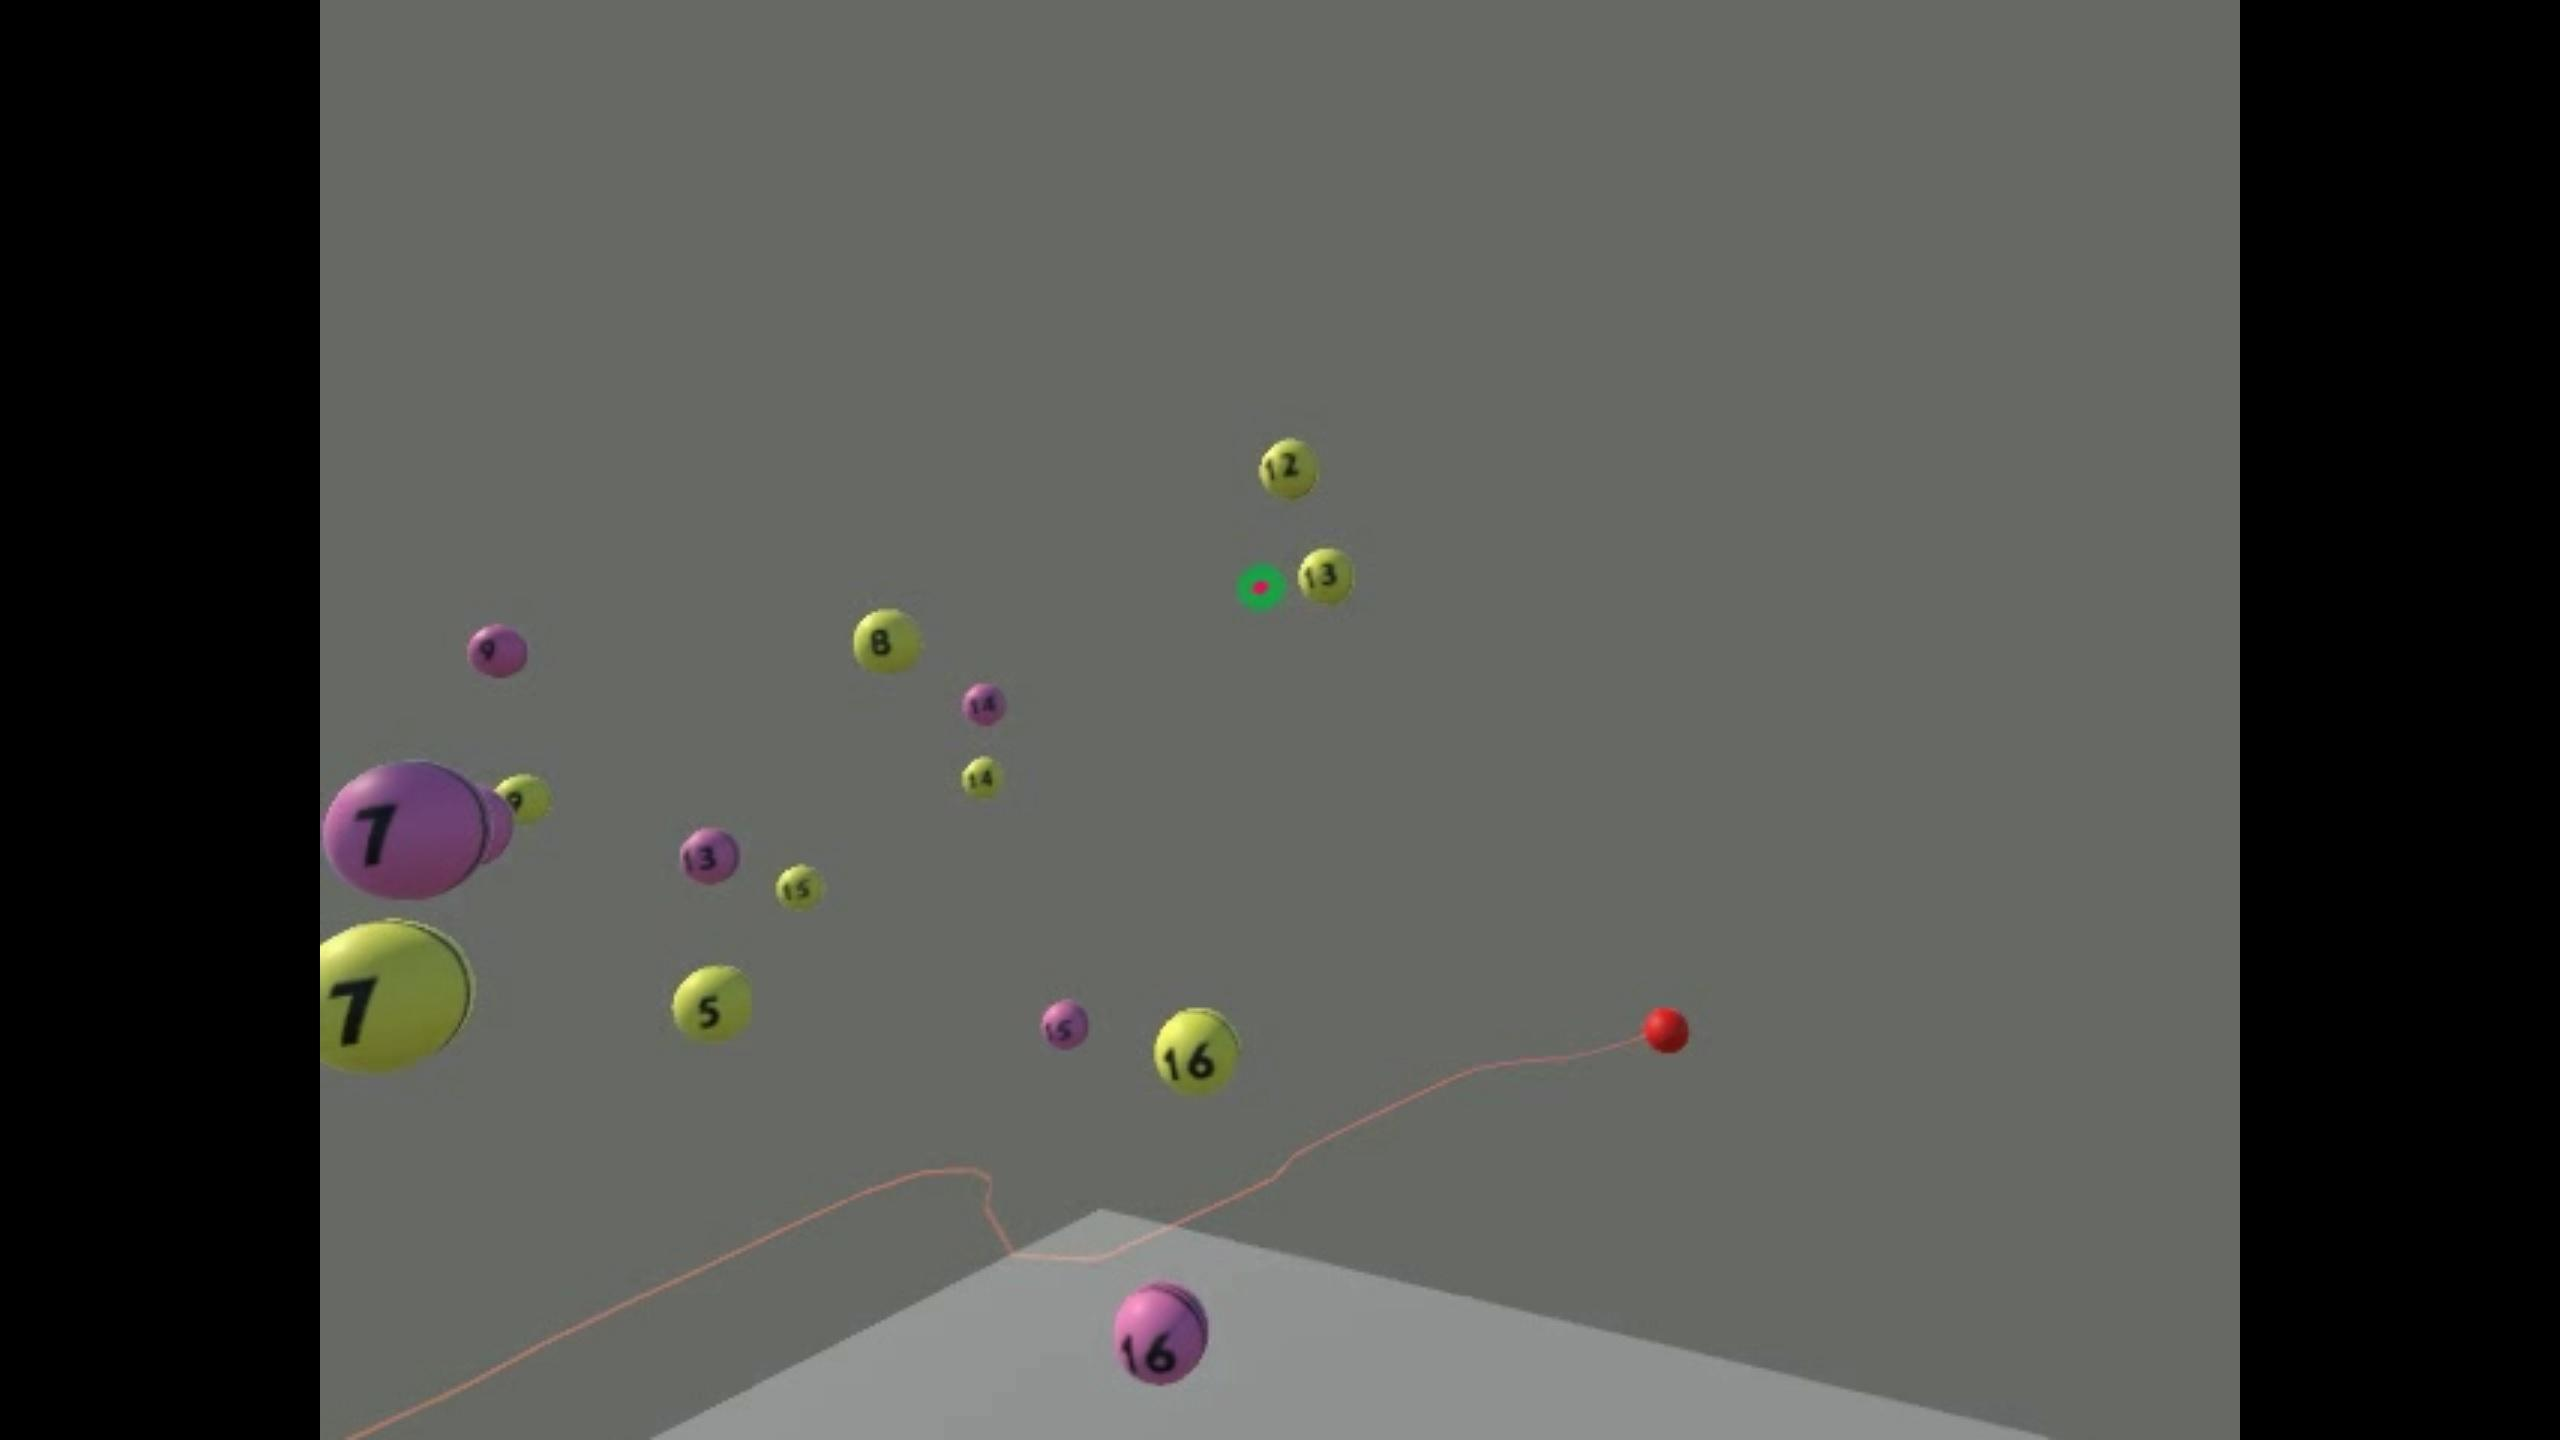ball_05_yellow: (673, 964, 754, 1043)
ball_07_pink: (324, 761, 487, 902)
ball_08_yellow: (853, 610, 921, 675)
ball_09_pink: (468, 624, 529, 677)
ball_12_yellow: (1259, 438, 1320, 499)
ball_13_pink: (680, 825, 738, 883)
ball_13_yellow: (1298, 545, 1357, 603)
ball_14_pink: (962, 682, 1004, 724)
ball_14_yellow: (962, 758, 1004, 796)
ball_15_pink: (1041, 1002, 1092, 1050)
ball_15_yellow: (775, 863, 823, 911)
ball_16_pink: (1111, 1284, 1208, 1384)
ball_16_yellow: (1152, 1006, 1243, 1095)
ball_unknown: (318, 920, 473, 1067), (501, 763, 549, 828), (484, 774, 512, 862)
user_cursor: (1642, 1007, 1686, 1051)
